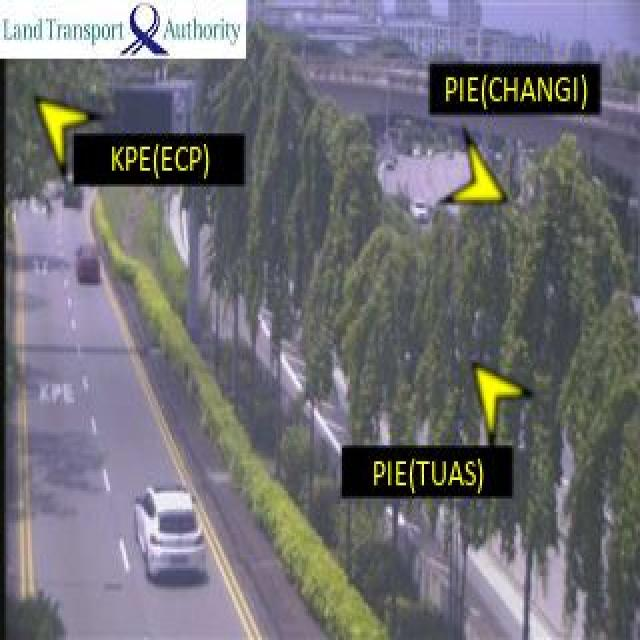-vehicles: (124, 477, 214, 592), (70, 232, 114, 298)
